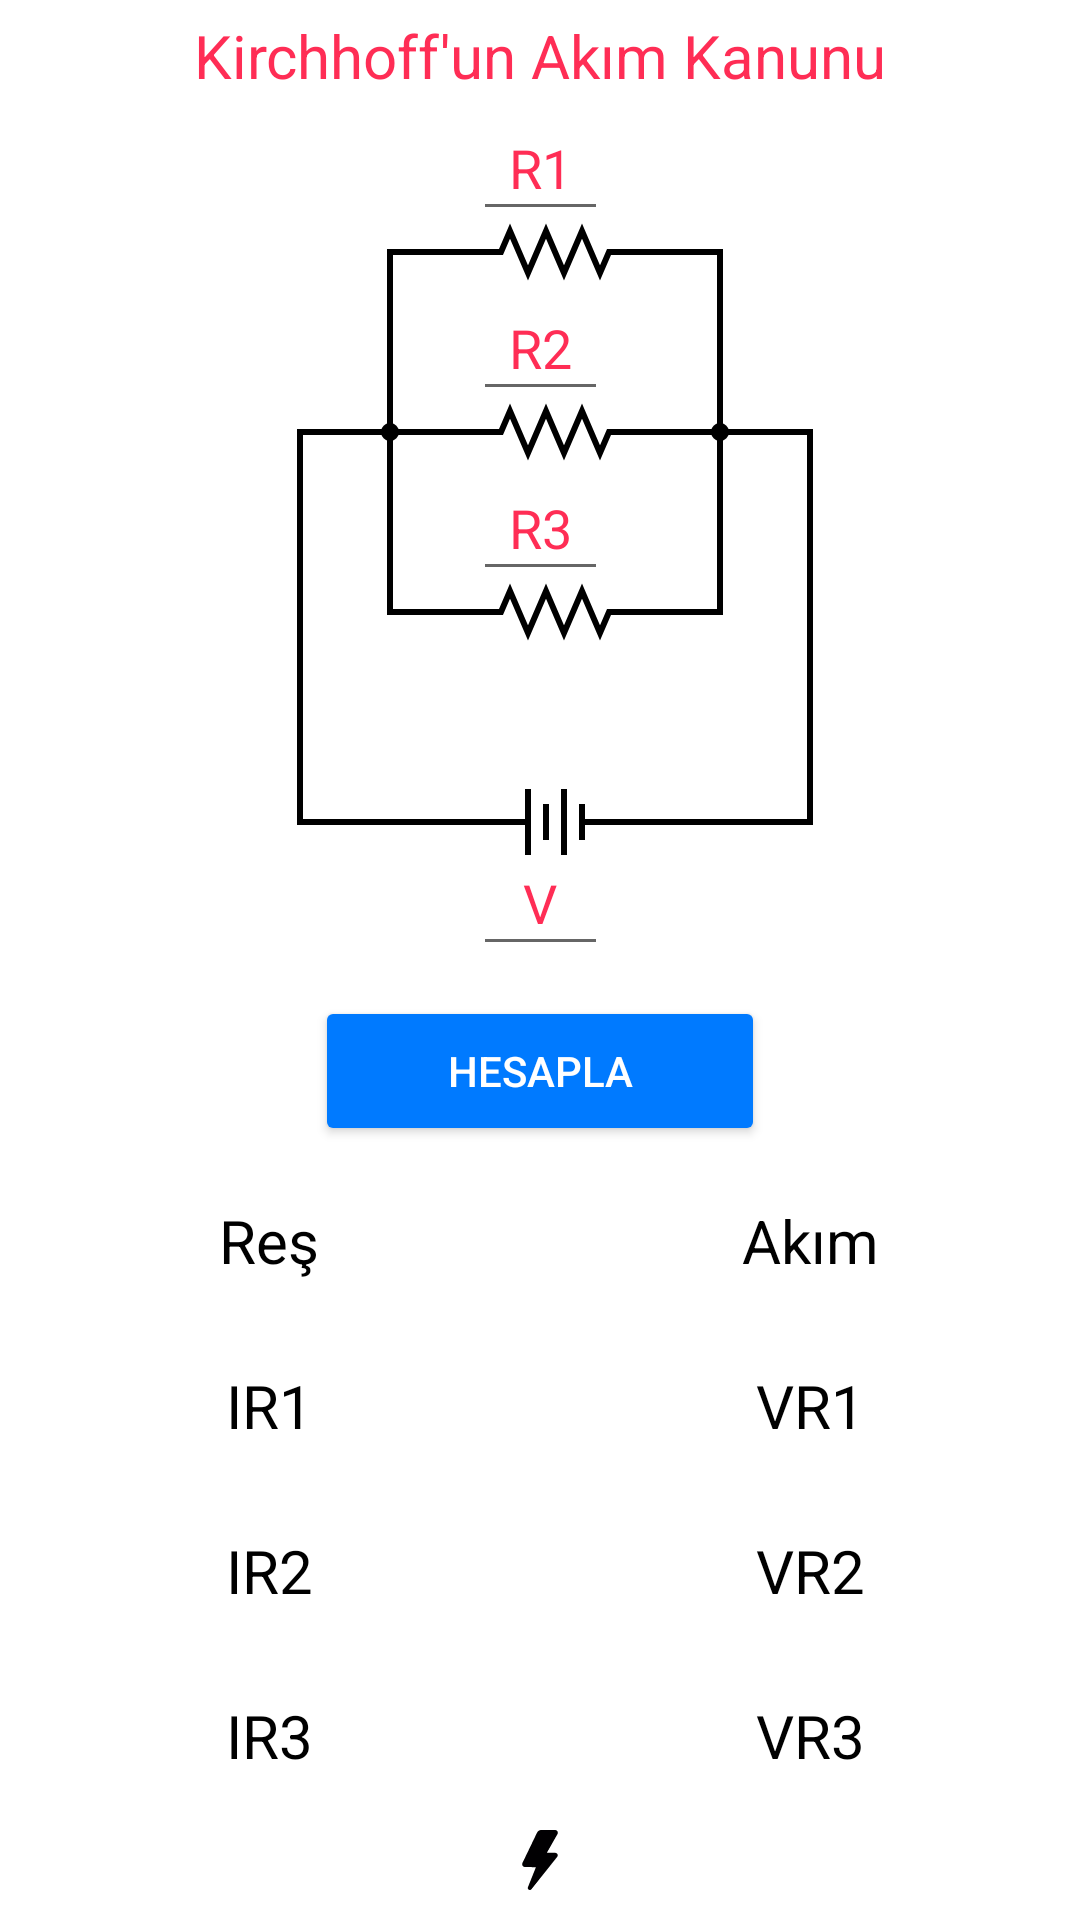

Locate icon controls on the screen. Image size 1080px×1920px, boxes as Rect(x1, y1, x2, y2).
akimicon: Rect(522, 1830, 558, 1890)
